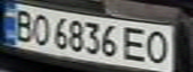3: (81, 19, 103, 56)
6: (100, 21, 124, 59), (48, 15, 69, 51)
8: (66, 18, 84, 53)
B: (6, 7, 39, 43)
E: (121, 25, 151, 63)
O: (142, 28, 175, 65), (27, 11, 54, 46)
